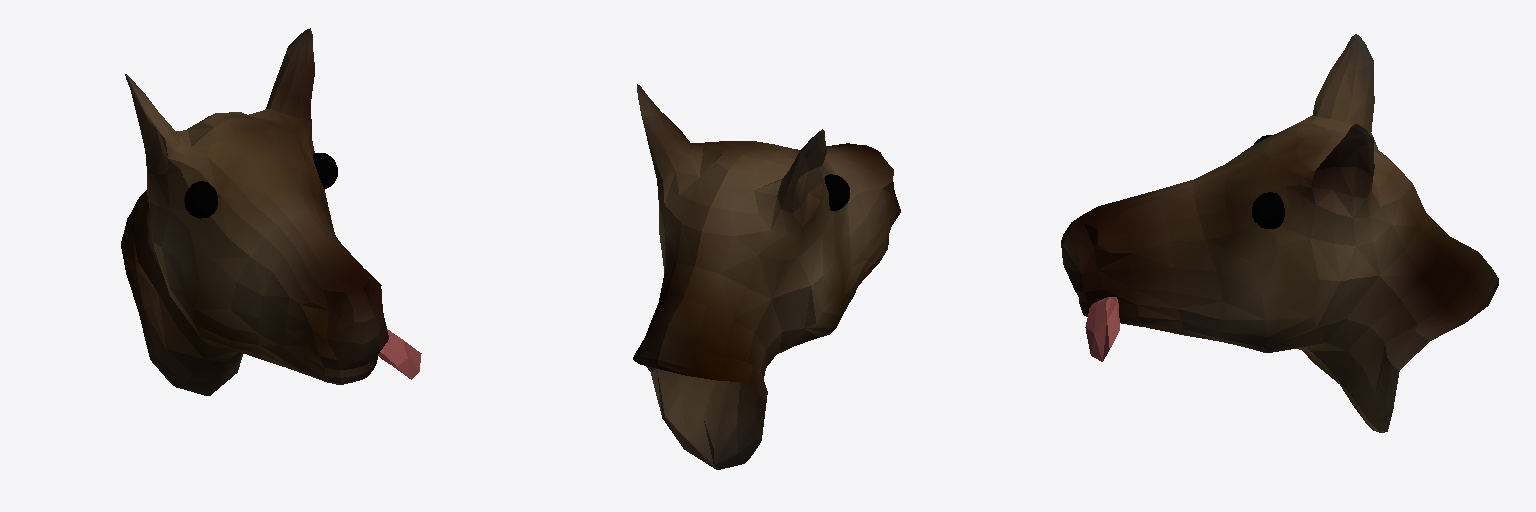
The picture shows the model from 3 angles: view 1: azimuth 30°, elevation 25°; view 2: azimuth 150°, elevation 25°; view 3: azimuth 270°, elevation 25°; orthographic projection.
Parts seen in each view (by area): view 1: Group27534, Group27579, Group27549, Group27564; view 2: Group27534, Group27549; view 3: Group27534, Group27579, Group27564.
Boxes of the visible parts, <box> form: Group27534: <box>121,28,388,395</box>; Group27579: <box>378,329,421,379</box>; Group27549: <box>184,181,217,218</box>; Group27564: <box>313,153,337,188</box>; Group27534: <box>633,84,900,469</box>; Group27549: <box>824,174,849,210</box>; Group27534: <box>1061,34,1498,432</box>; Group27579: <box>1085,297,1119,361</box>; Group27564: <box>1251,192,1284,228</box>.
Bounding box in the file's own units: 2.51 × 4.59 × 5.14.
Materials: 1 (1 with a texture image).